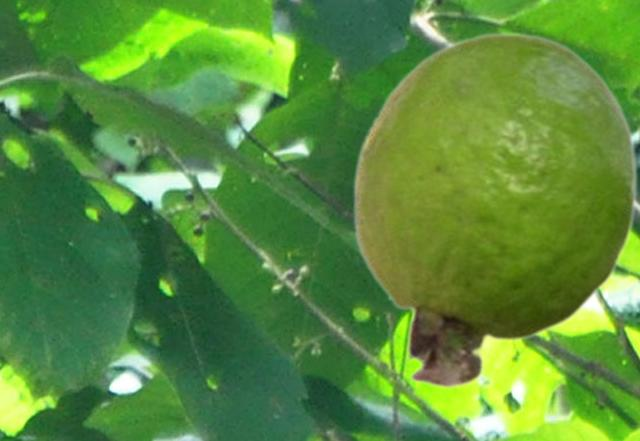guava: (352, 30, 638, 389)
